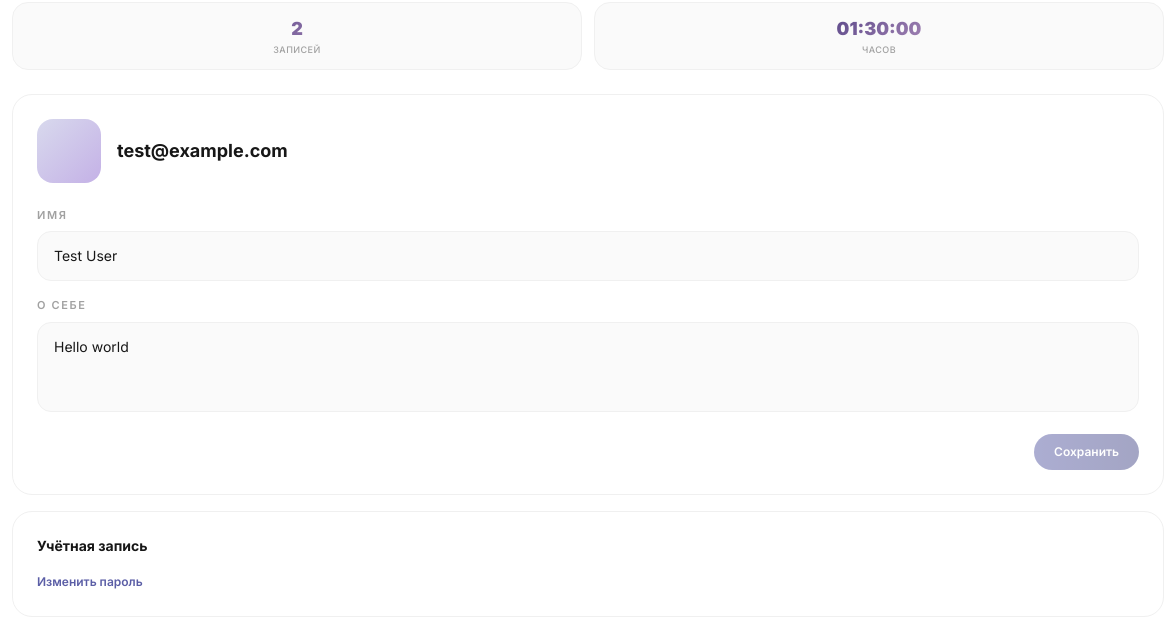
Scenario: ProfilePage › enables submit button when passwords match and all fields filled
The width and height of the screenshot is (1164, 642).
Click the button "Изменить пароль" at {"x": 90, "y": 582}, box x1=37 y1=574 x2=143 y2=590
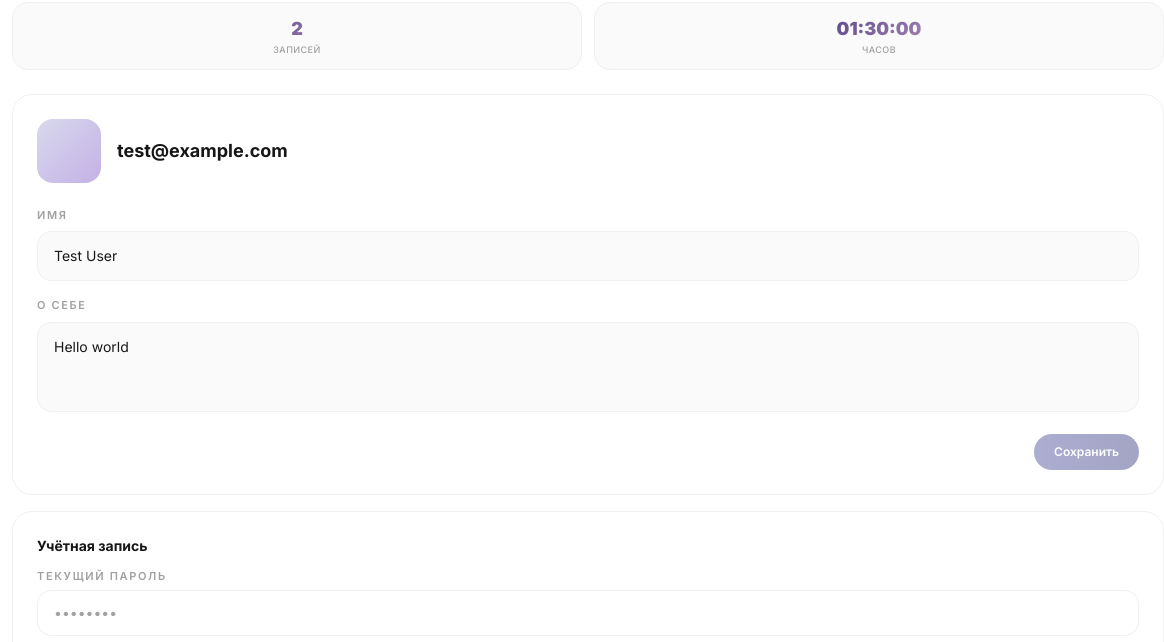
Type "oldpass" into the password field with placeholder "••••••••" at {"x": 588, "y": 613}, box x1=37 y1=590 x2=1139 y2=636
(page scrolled)
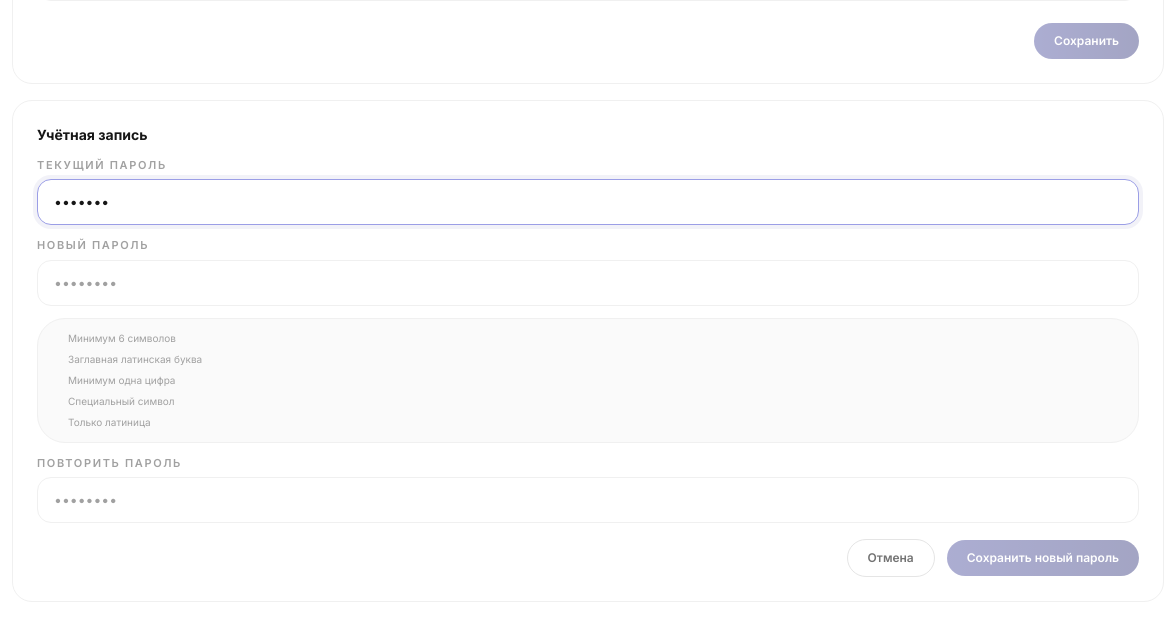
Type "newpass" into the 1st password field with placeholder "••••••••" at {"x": 588, "y": 282}, box x1=37 y1=260 x2=1139 y2=306
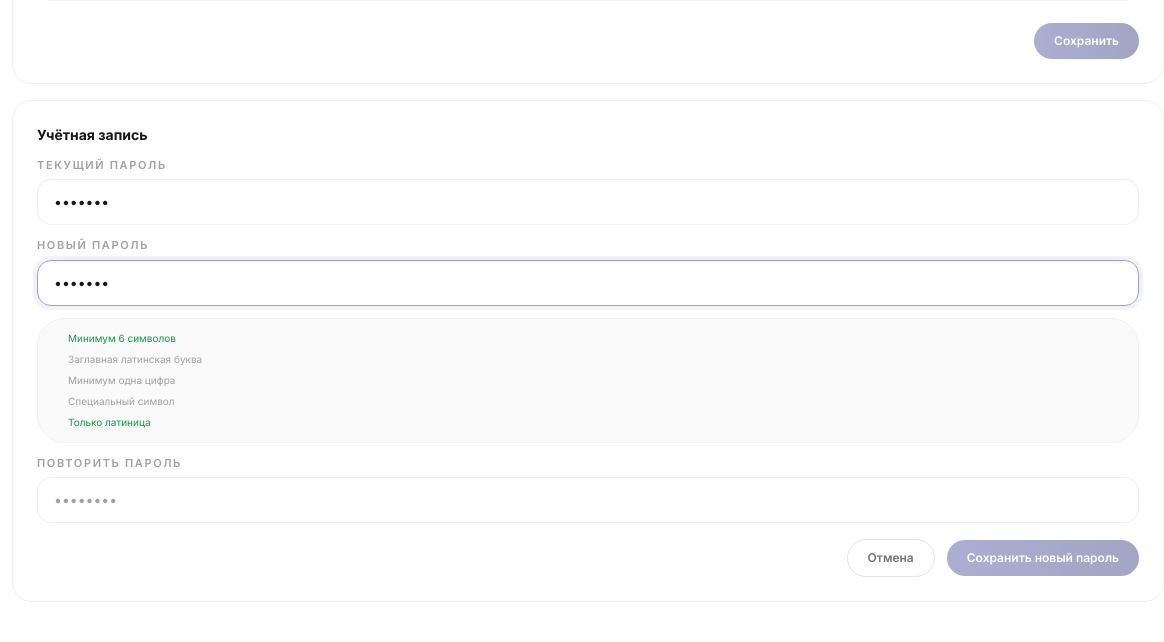
Type "newpass" into the password field with placeholder "••••••••" at {"x": 588, "y": 500}, box x1=37 y1=477 x2=1139 y2=523
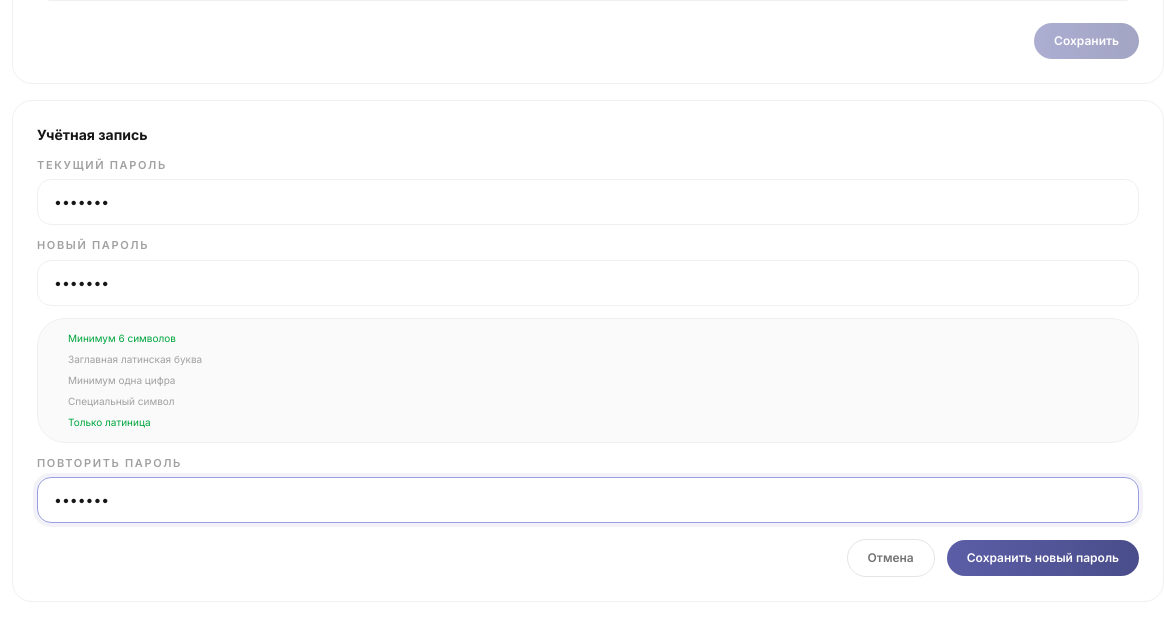
Check: the button "Сохранить новый пароль" is enabled, box x1=947 y1=540 x2=1139 y2=576
